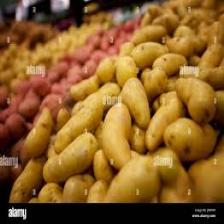Defected potato: (30, 72, 50, 96), (83, 58, 97, 78)
Potato: (102, 99, 132, 168), (122, 76, 152, 130)
